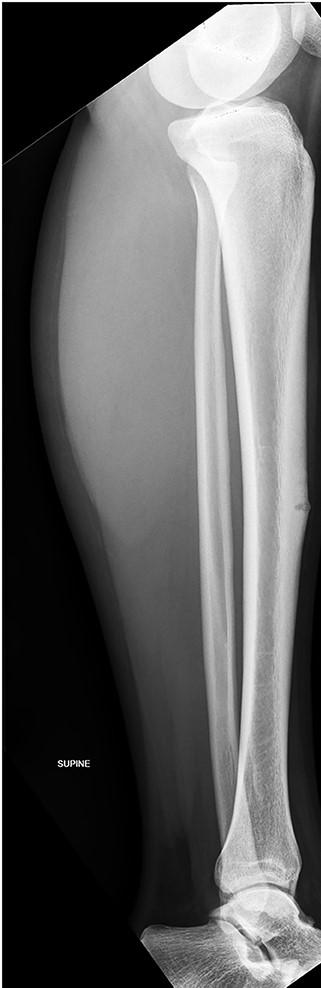fractured: (281, 480, 312, 530)
